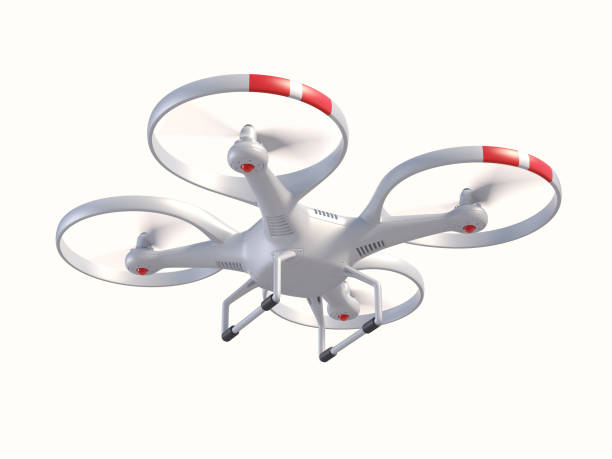Drone: (44, 65, 564, 371)
